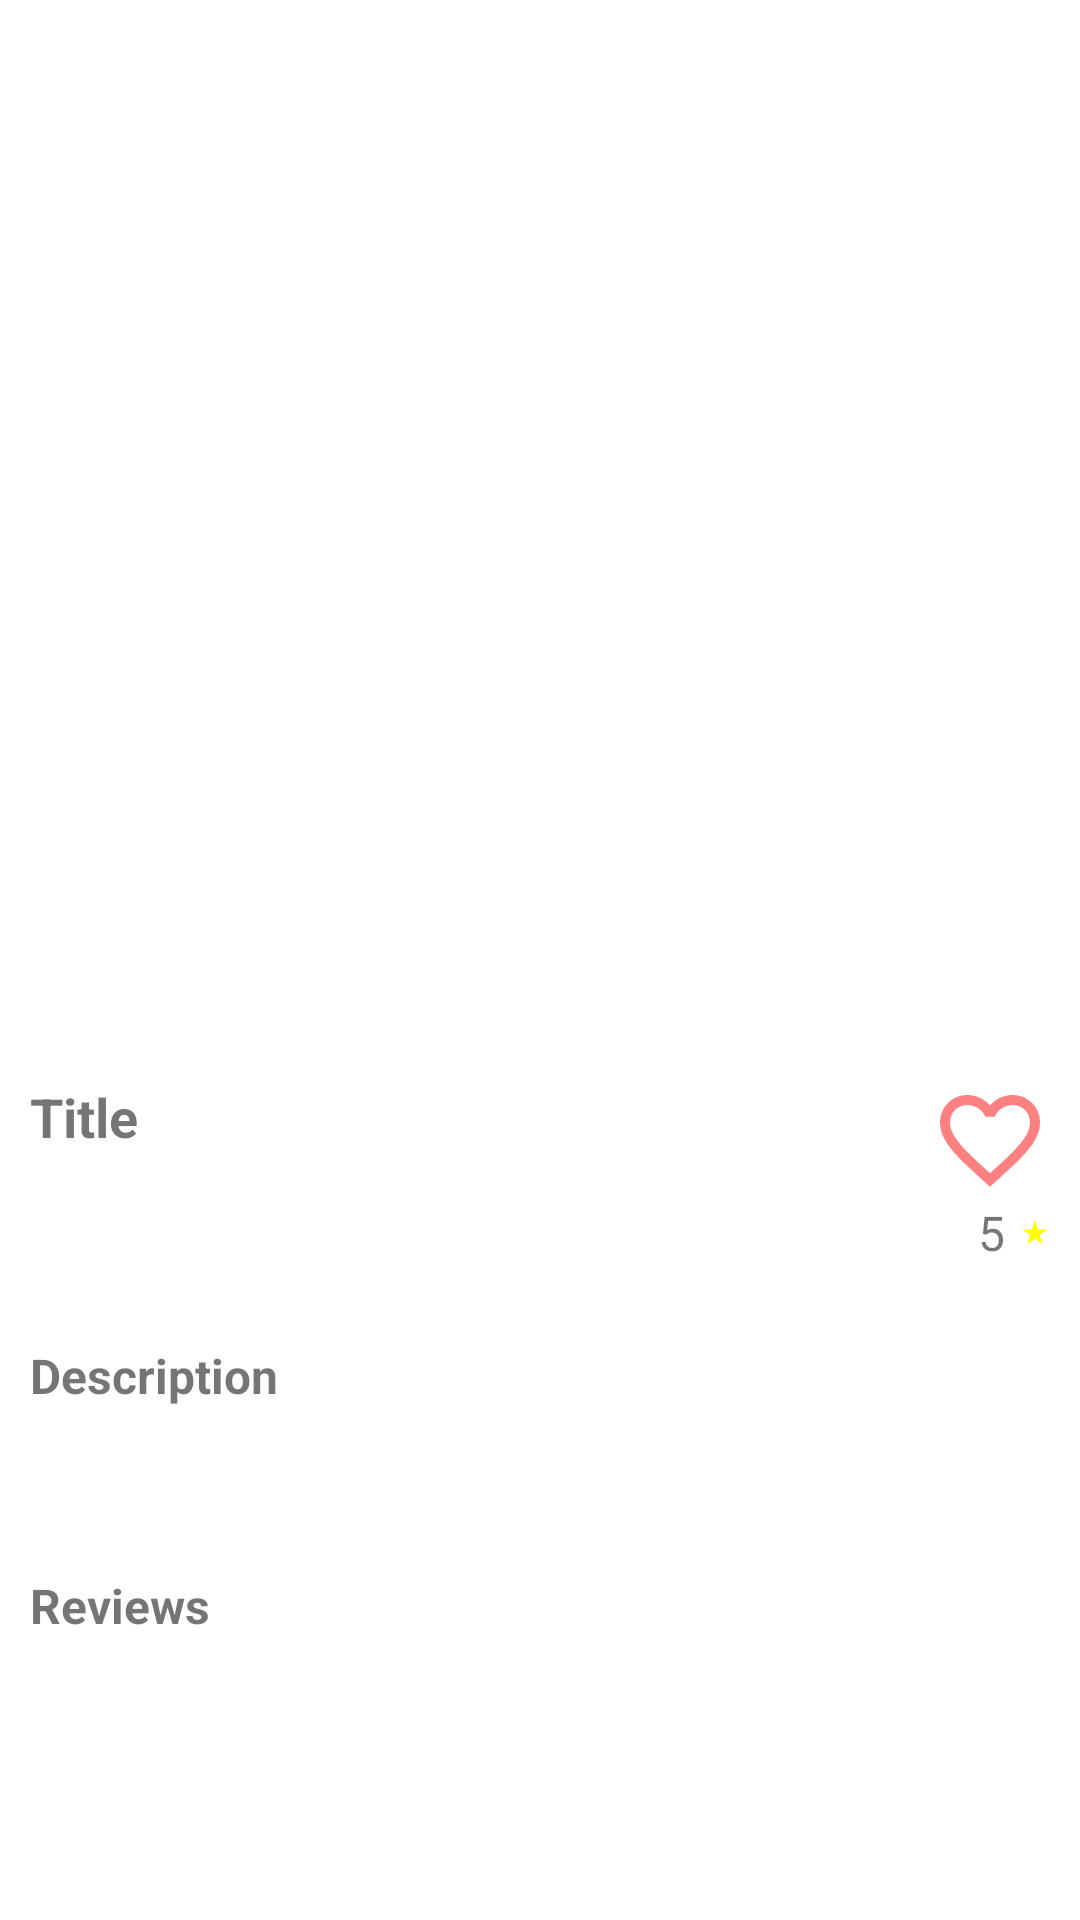

Where to tap for icons on this 1080px×1920px app screen, as (x,y):
favorite stroke: (990,1141)
